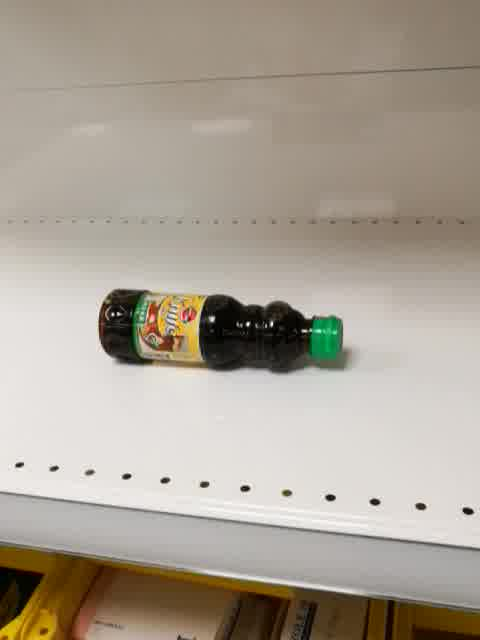cookingoil: (95, 284, 349, 377)
